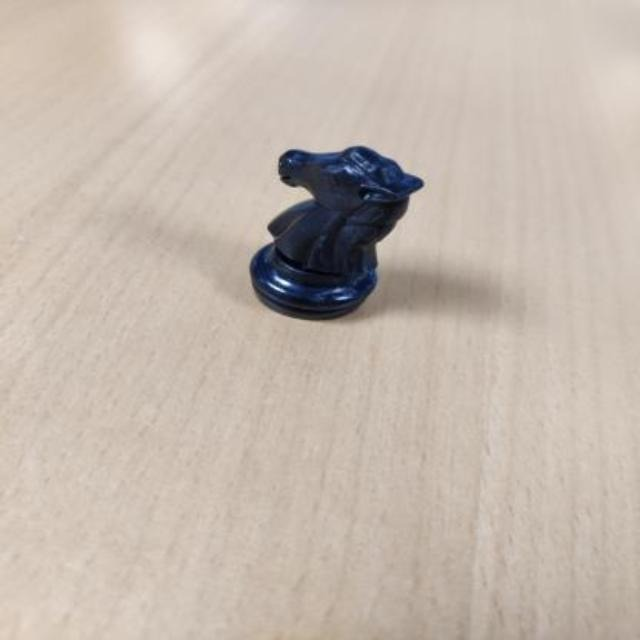black-knight: (250, 144, 423, 320)
